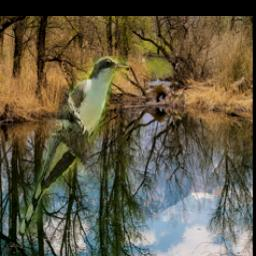Cuckoo: (19, 57, 130, 237)
